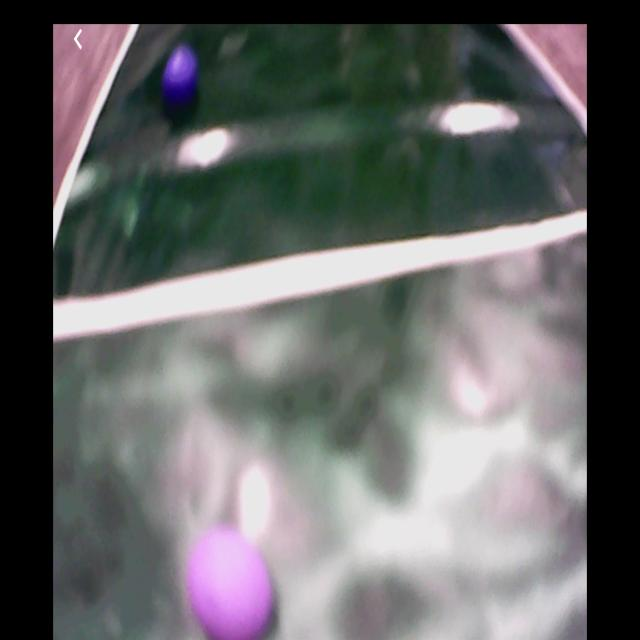ball: (185, 521, 276, 640), (163, 48, 200, 104)
